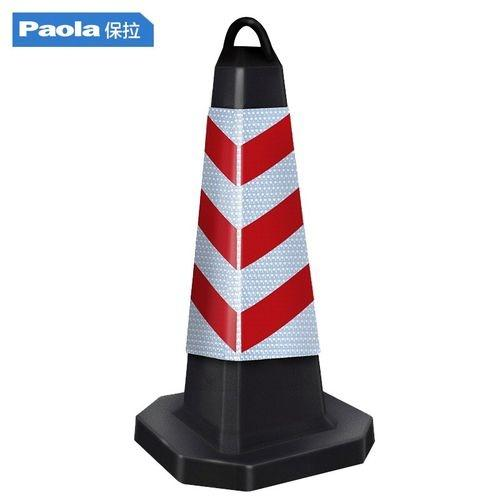cone_barrel: (158, 26, 350, 479)
